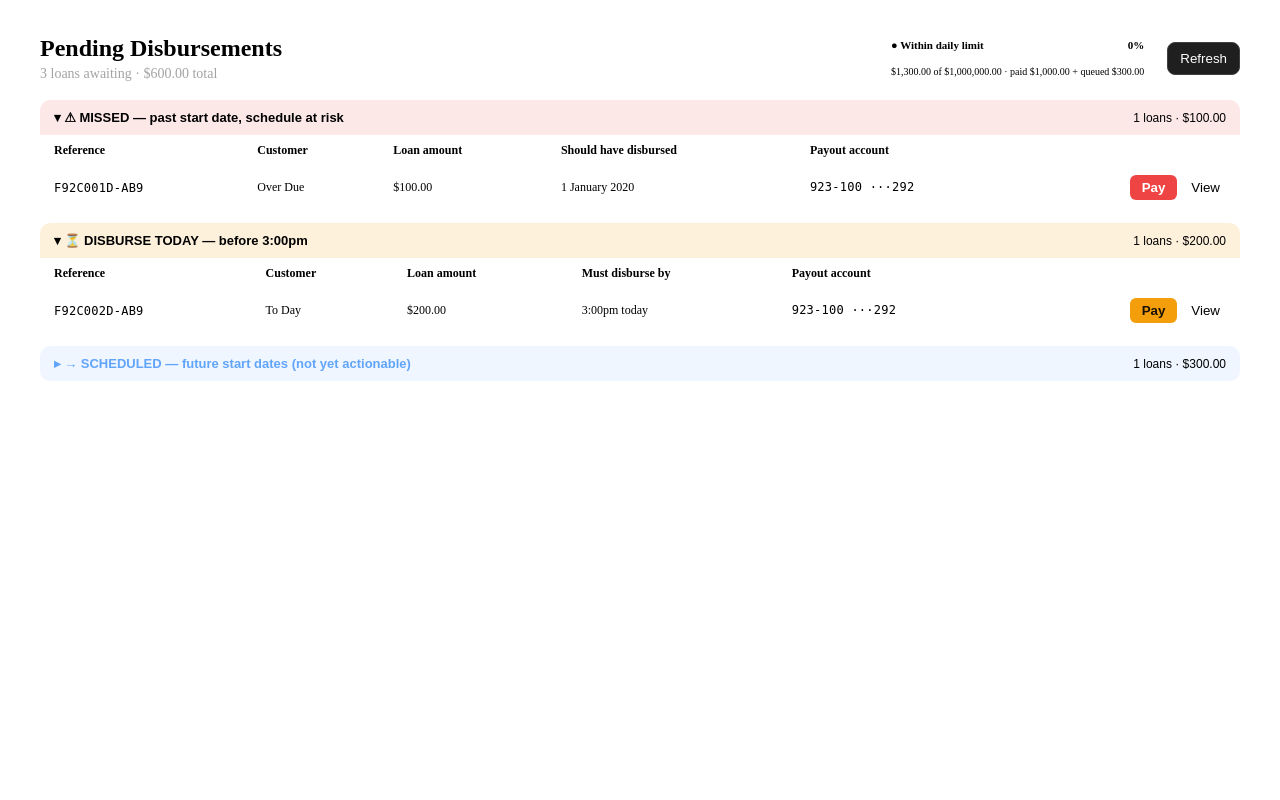
Test: PendingDisbursementsView › warns BEFORE opening the panel for a scheduled loan
Expected: the element with test id "section-scheduled" is shown, [40,346,1240,381]
What coordinates should you click on to do the following:
click the text "▸ → SCHEDULED — future start dates (not yet actionable)"
I would click on:
 (232, 364)
Its box is [54,356,411,371].
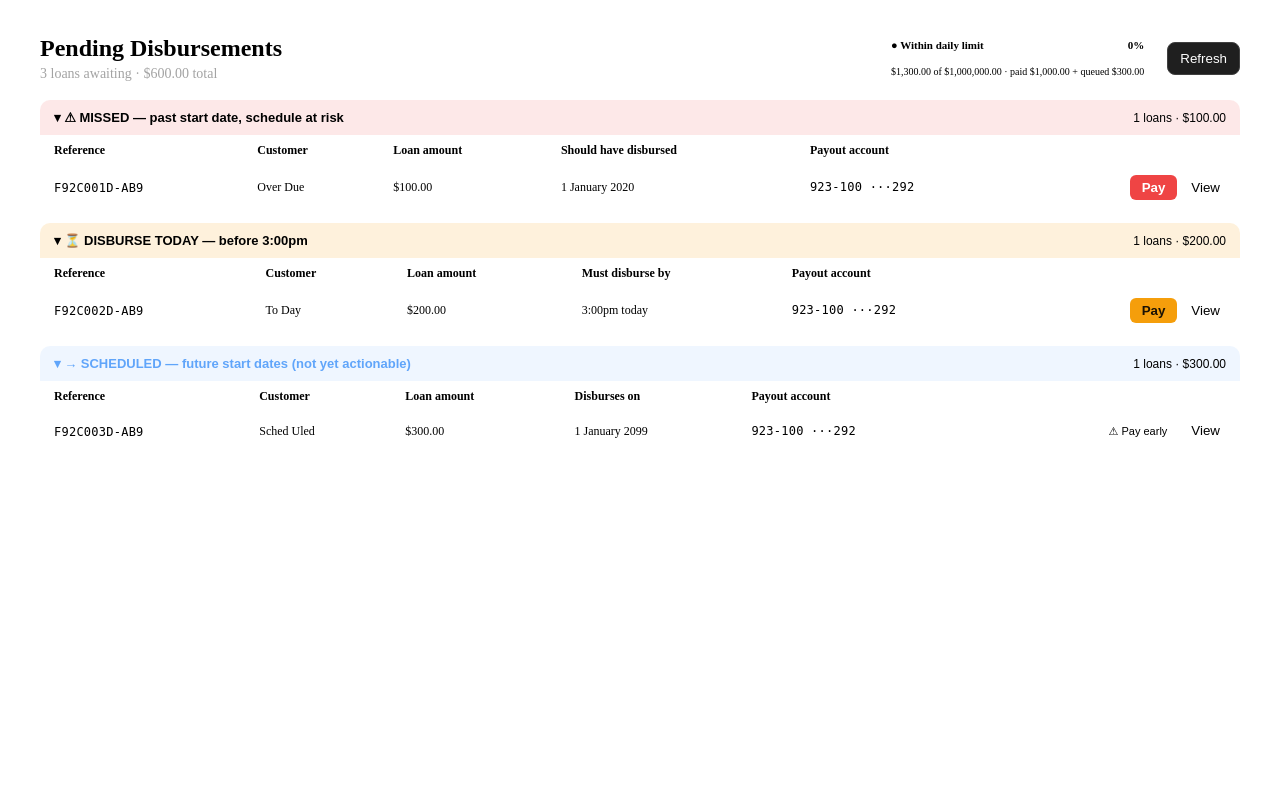
What coordinates should you click on to do the following:
click the button with test id "toggle-payment-a3"
I would click on:
 (1138, 432)
Its box is [1099,421,1177,442].
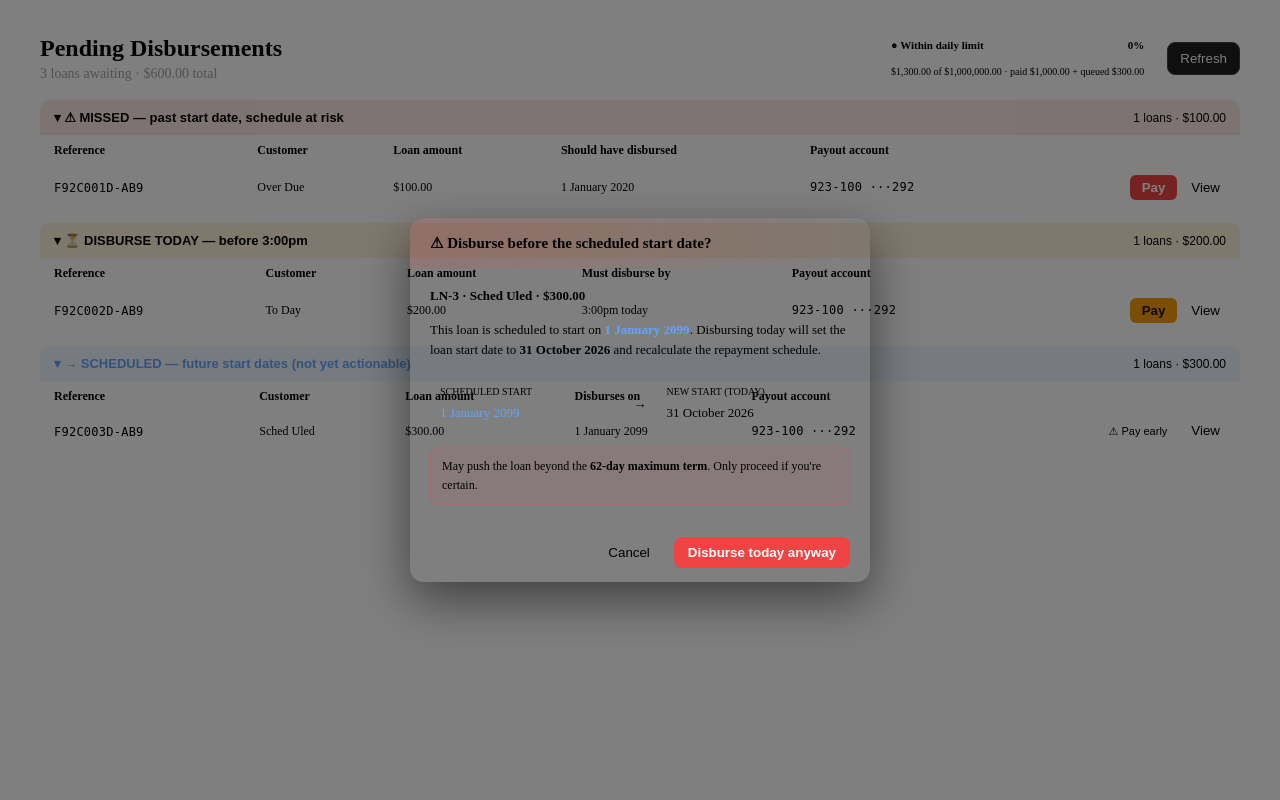
Result: the text "⚠ Disburse before the scheduled start date?" is shown at [410,218,870,268]
